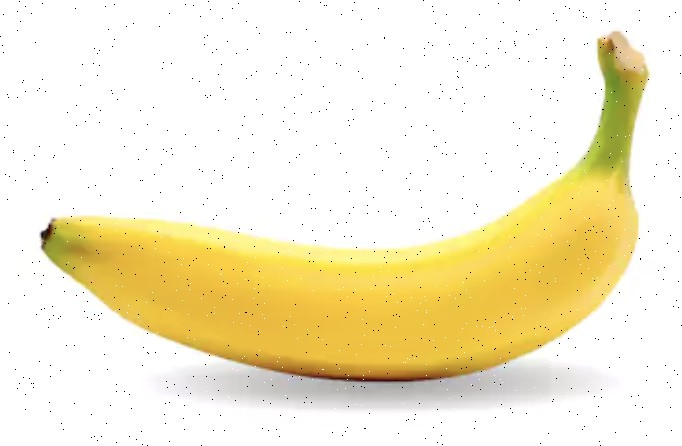fresh_banana: (41, 31, 648, 382)
